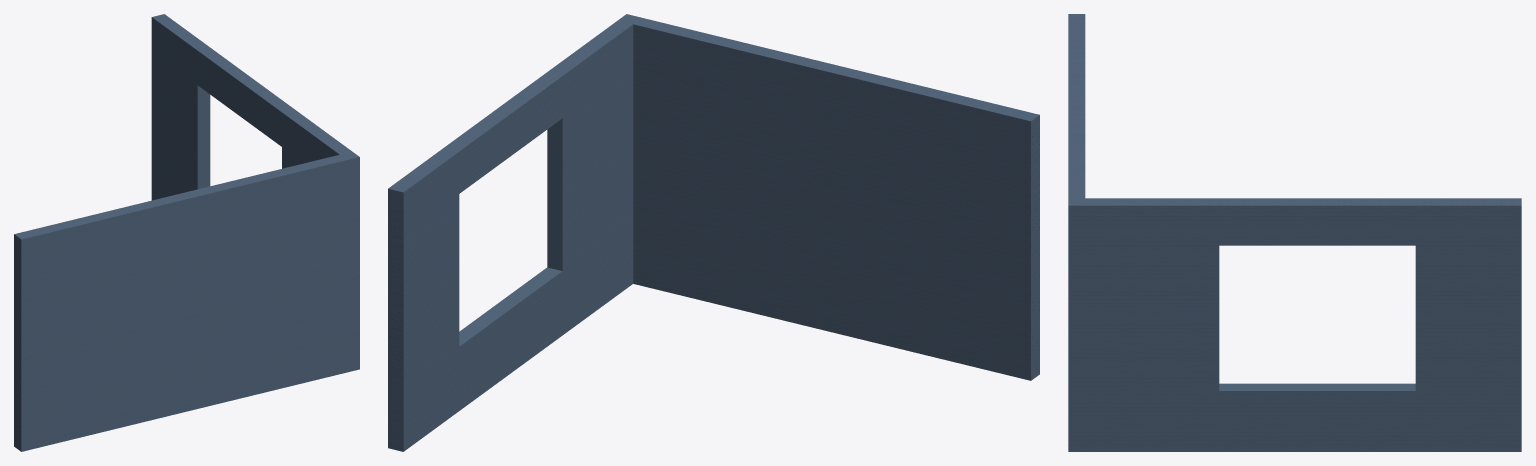
File: coin_mur2.gltf
3 views of the same model, side by side, from view 1: azimuth 30°, elevation 25°; view 2: azimuth 150°, elevation 25°; view 3: azimuth 270°, elevation 25° (orthographic). The views are drawn at different scales.
Parts seen in each view (by area): view 1: Room; view 2: Room; view 3: Room.
Boxes of the visible parts, x1,y1,x2,y2 form: Room: (14, 14, 359, 451); Room: (388, 14, 1039, 451); Room: (1068, 14, 1521, 451).
Bounding box in the file's own units: 4 × 2.4 × 4.
Materials: 1 (1 with a texture image).
